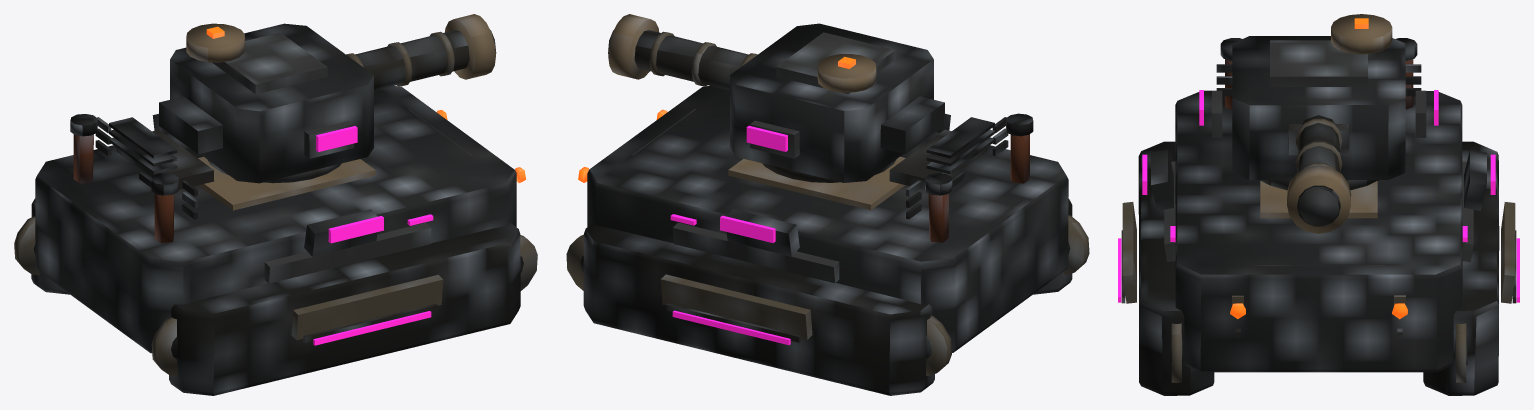
File: harkonnen_tank.glb
3 renders of one model, left to right at view 1: azimuth 30°, elevation 25°; view 2: azimuth 150°, elevation 25°; view 3: azimuth 270°, elevation 25°, orthographic. The views are drawn at different scales.
Visible parts, largest first — view 1: Sandwar3D; view 2: Sandwar3D; view 3: Sandwar3D.
Part boxes in pixels (bbox=[...]): Sandwar3D: bbox=[14, 14, 537, 395]; Sandwar3D: bbox=[566, 14, 1089, 395]; Sandwar3D: bbox=[1118, 14, 1519, 395].
Bounding box in the file's own units: 2.02 × 1.27 × 1.7.
11 materials, 10 textured.
